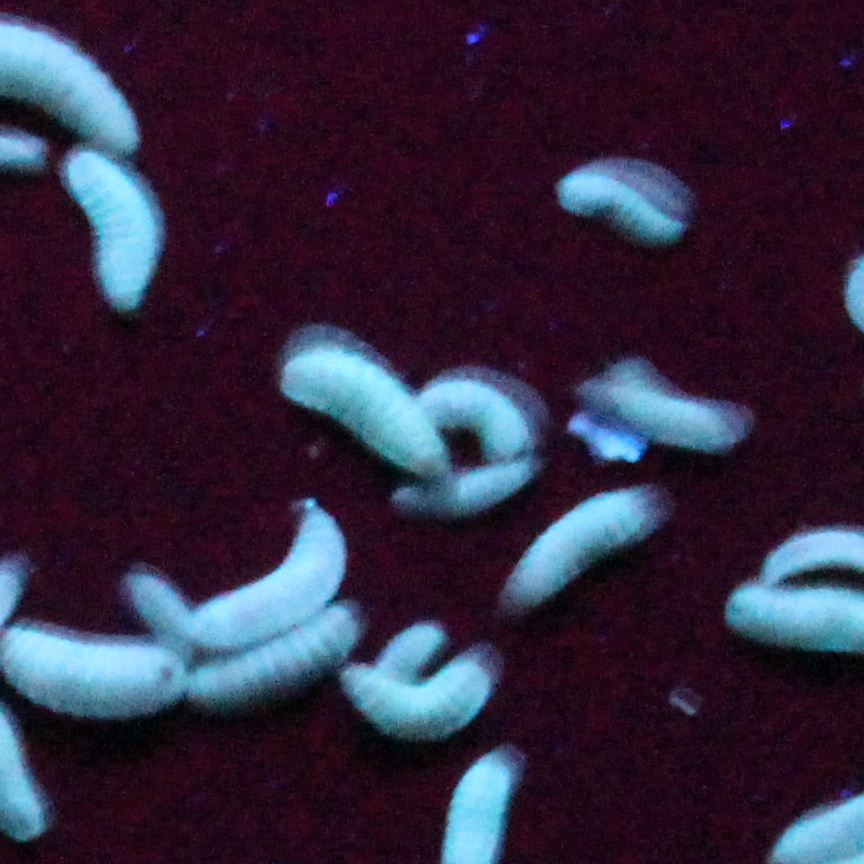larve: (190, 509, 346, 647), (281, 351, 446, 478), (187, 604, 358, 700), (509, 489, 645, 599), (67, 155, 156, 303), (344, 658, 490, 741), (414, 380, 530, 458), (608, 384, 729, 450), (558, 174, 682, 238), (130, 576, 192, 665), (434, 460, 531, 509), (374, 624, 441, 685)
